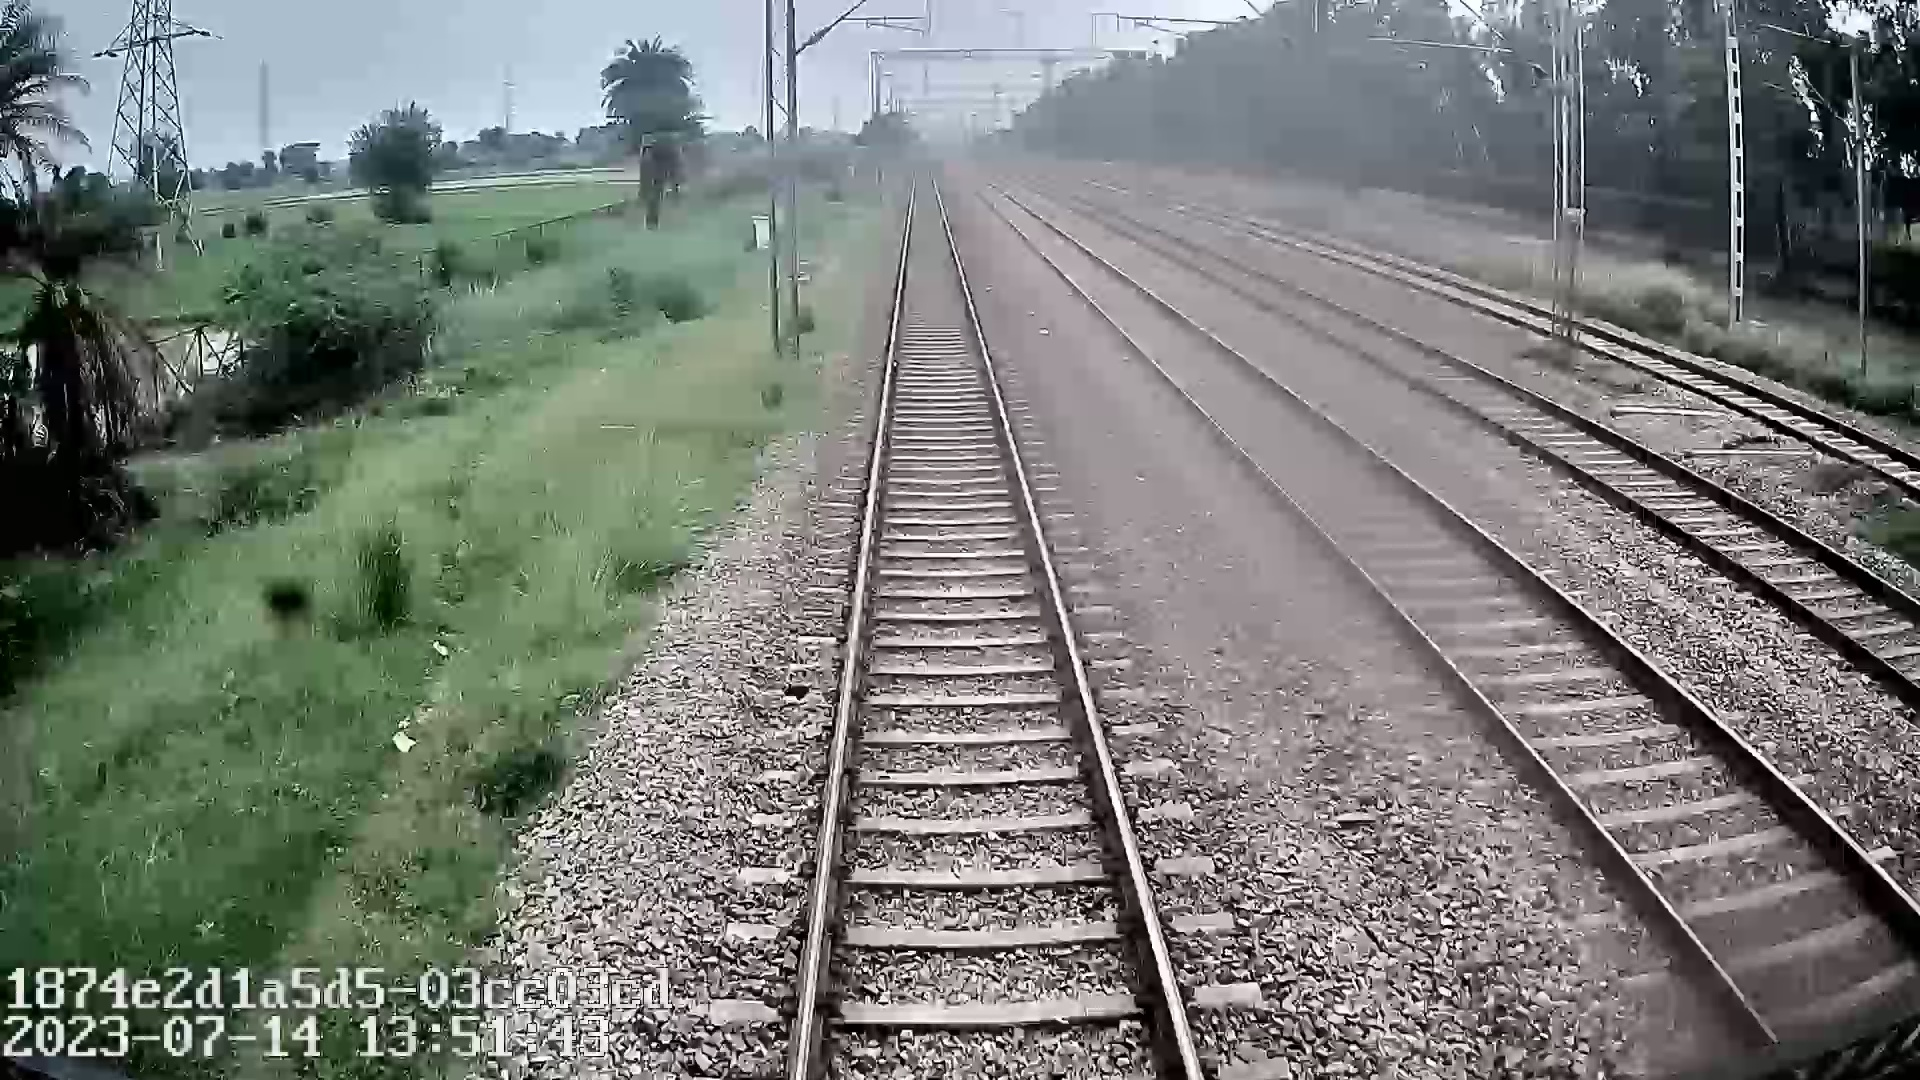track1: (802, 185, 1192, 1059)
track2: (977, 191, 1916, 1010)
track3: (1101, 214, 1917, 669)
track4: (1291, 240, 1919, 484)
